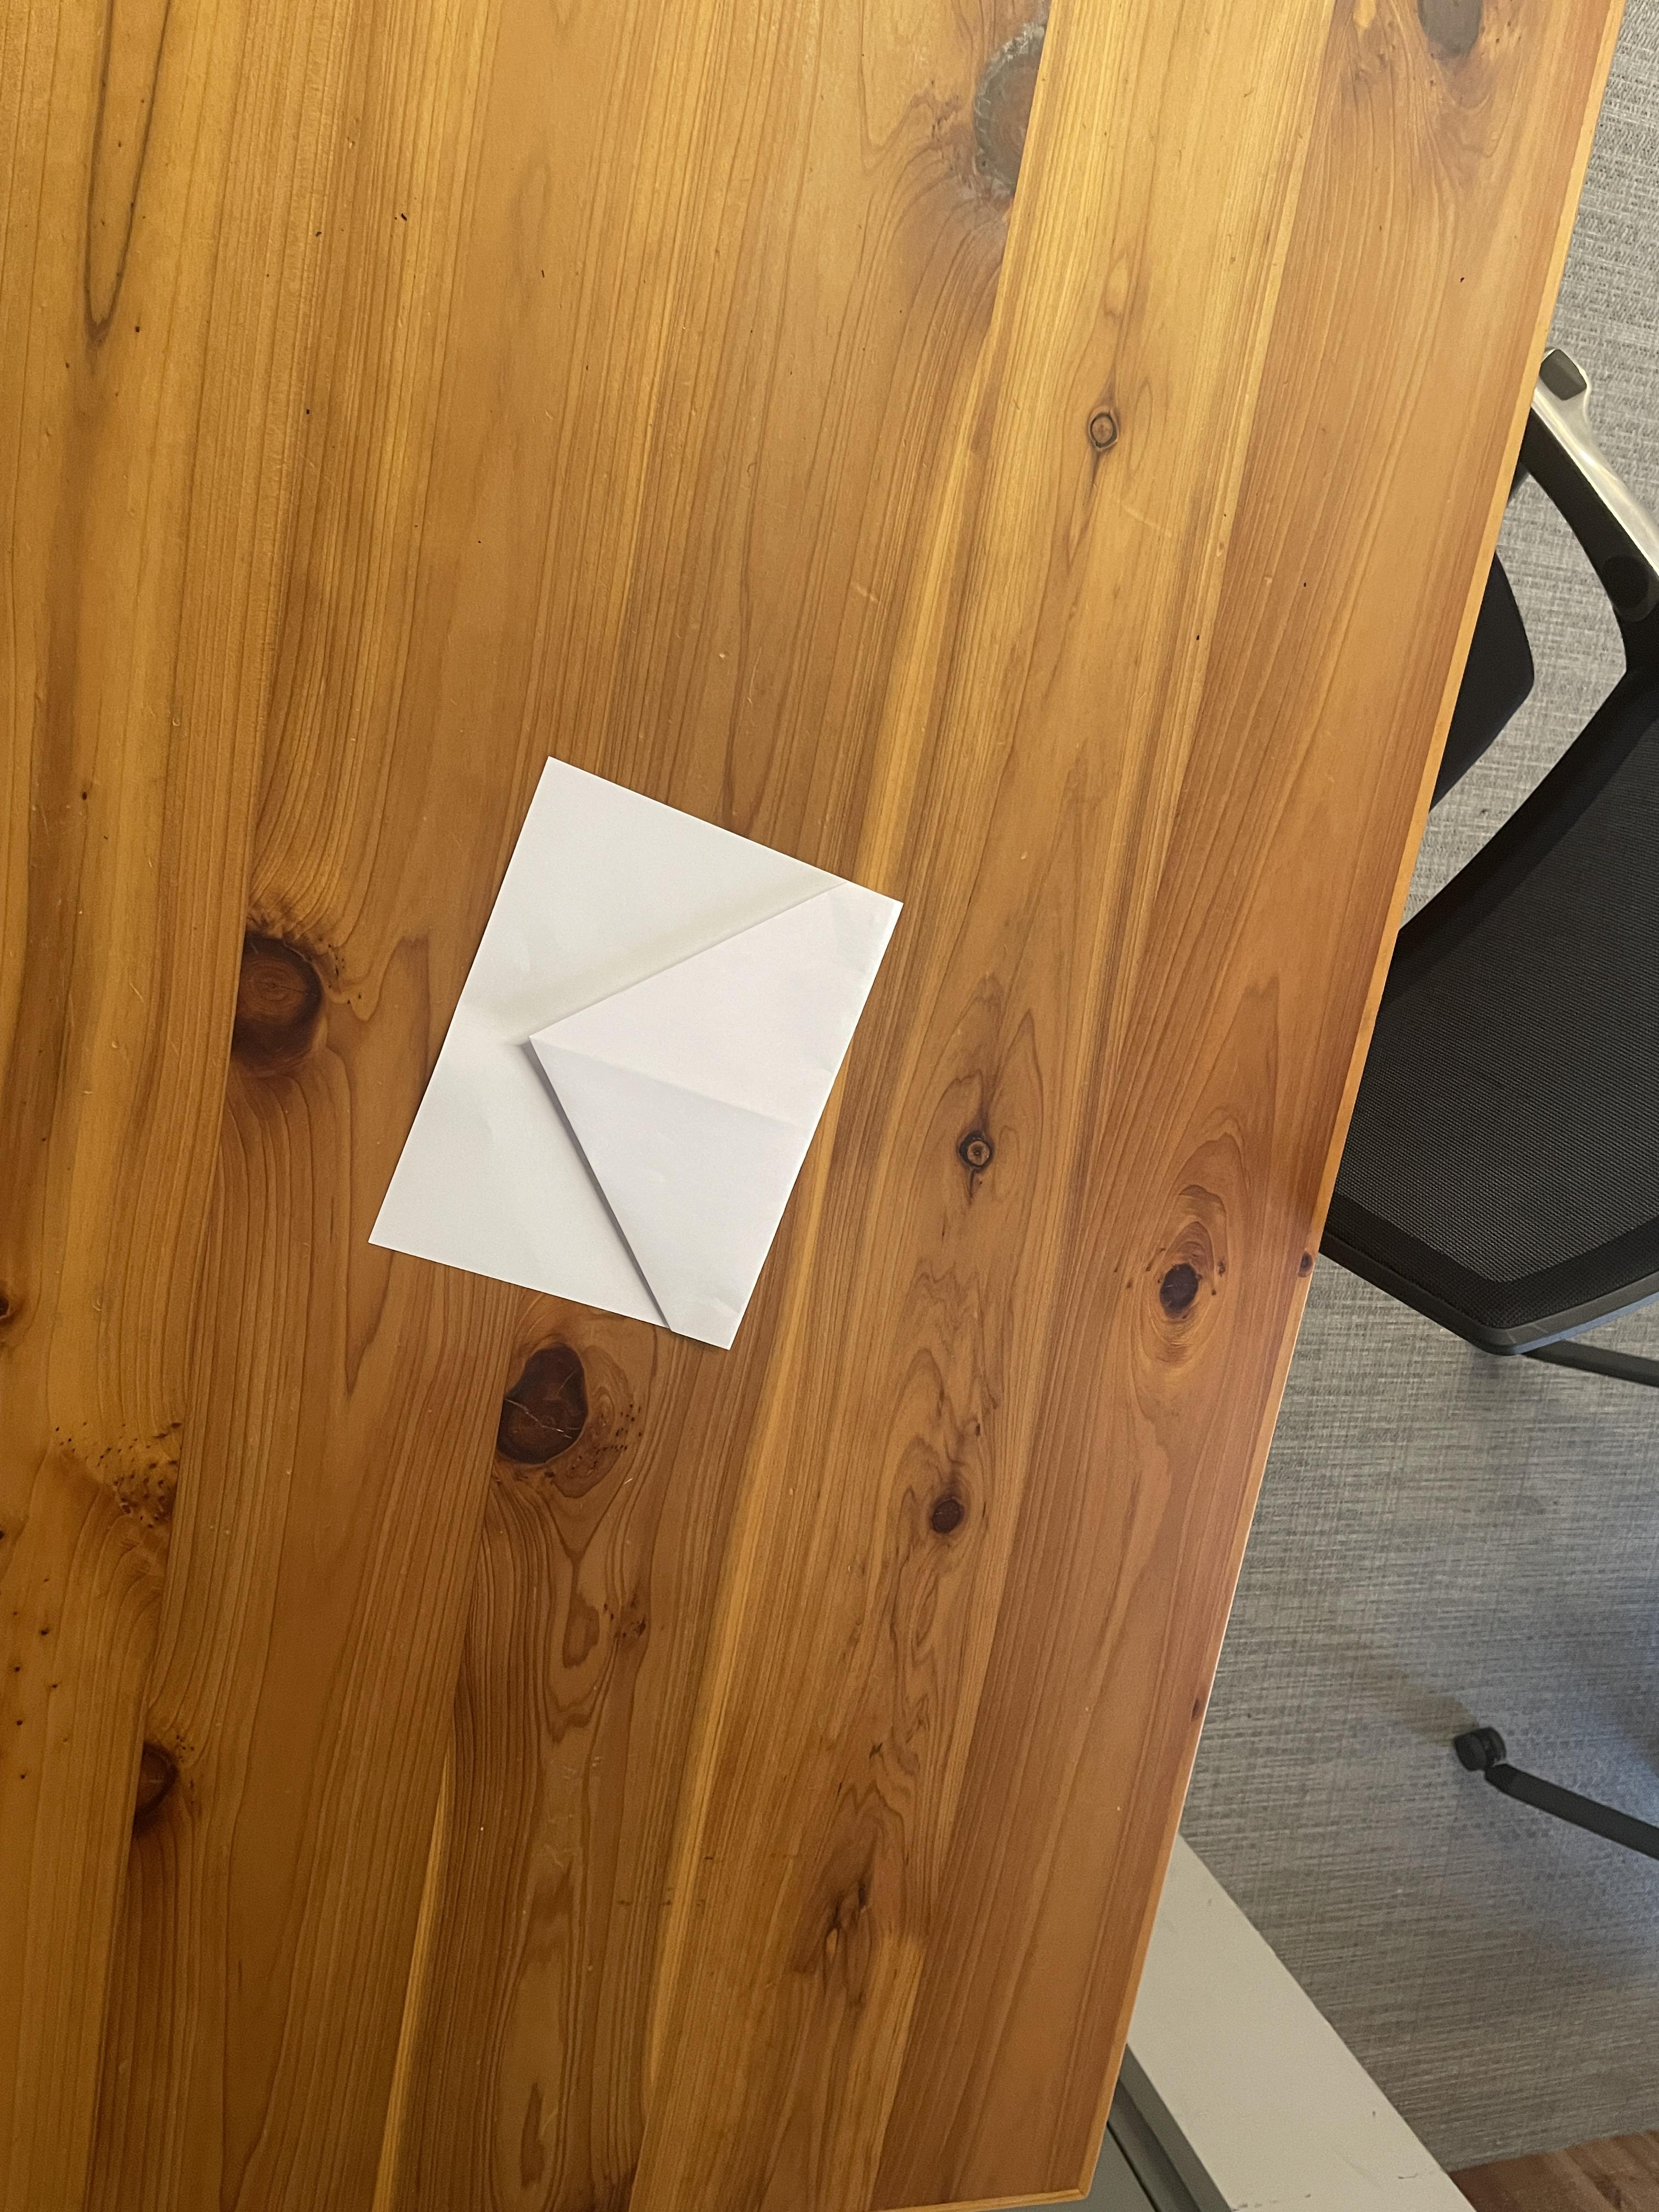shape_1: (263, 653, 960, 1463)
